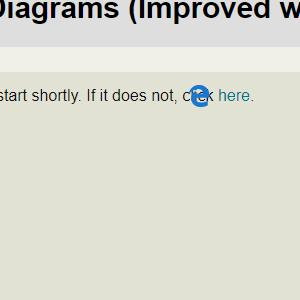edge: (189, 84, 209, 107)
